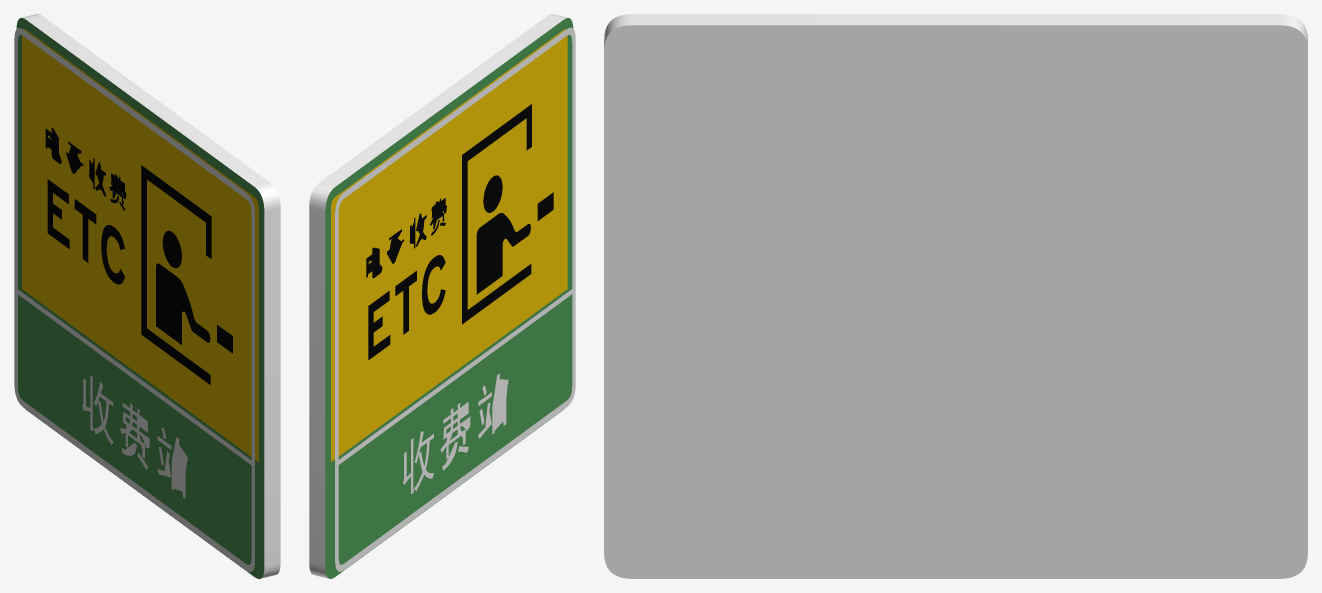
The model's file is Toll_Station_Ahead.fbx.
3 renders of one model, left to right at view 1: azimuth 30°, elevation 25°; view 2: azimuth 150°, elevation 25°; view 3: azimuth 270°, elevation 25°, orthographic. The views are drawn at different scales.
Parts seen in each view (by area): view 1: Toll_Station_Ahead; view 2: Toll_Station_Ahead; view 3: Toll_Station_Ahead.
Boxes of the visible parts, bbox=[...] form: Toll_Station_Ahead: bbox=[14, 14, 280, 578]; Toll_Station_Ahead: bbox=[309, 14, 575, 578]; Toll_Station_Ahead: bbox=[604, 14, 1307, 578].
Size of the model in its own units: 0.0408 by 0.69 by 0.7948.
